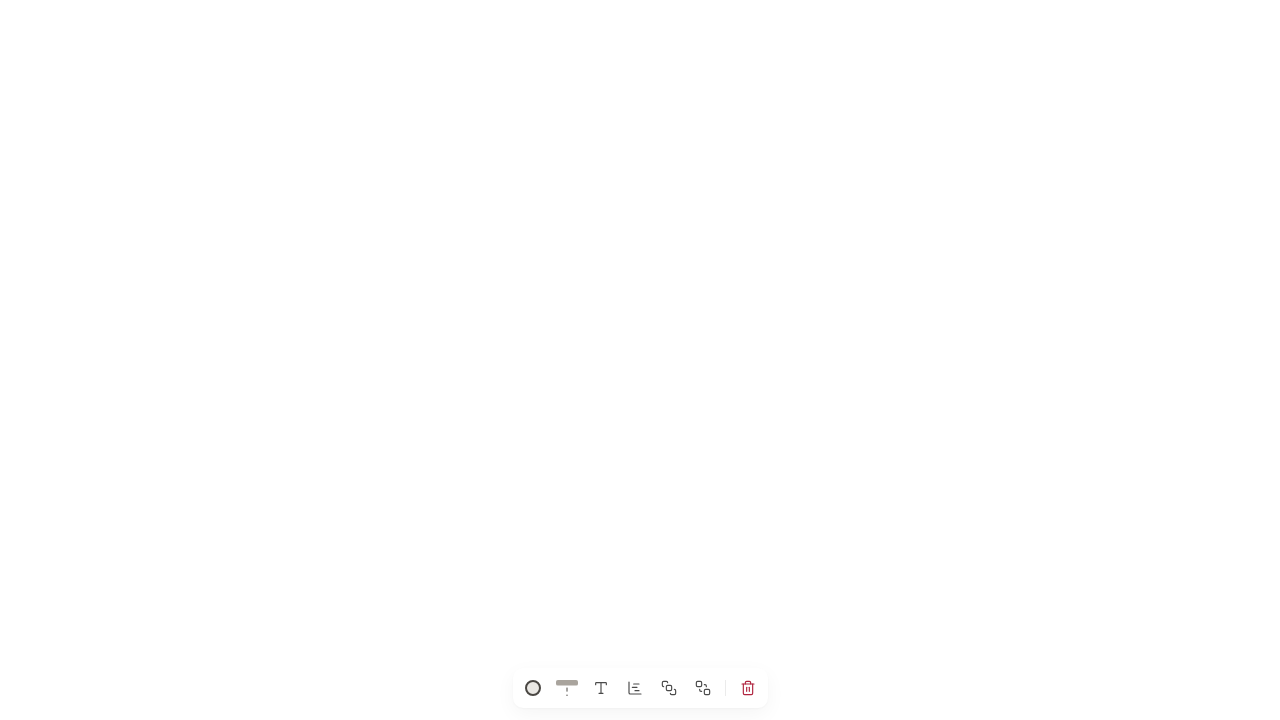
Scenario: edit bar — Destroy marker › turning it on fills in a default y and shows the input
The width and height of the screenshot is (1280, 720).
Click the 4th button named "Activations". click: click(634, 688)
box: x1=618 y1=672 x2=650 y2=704
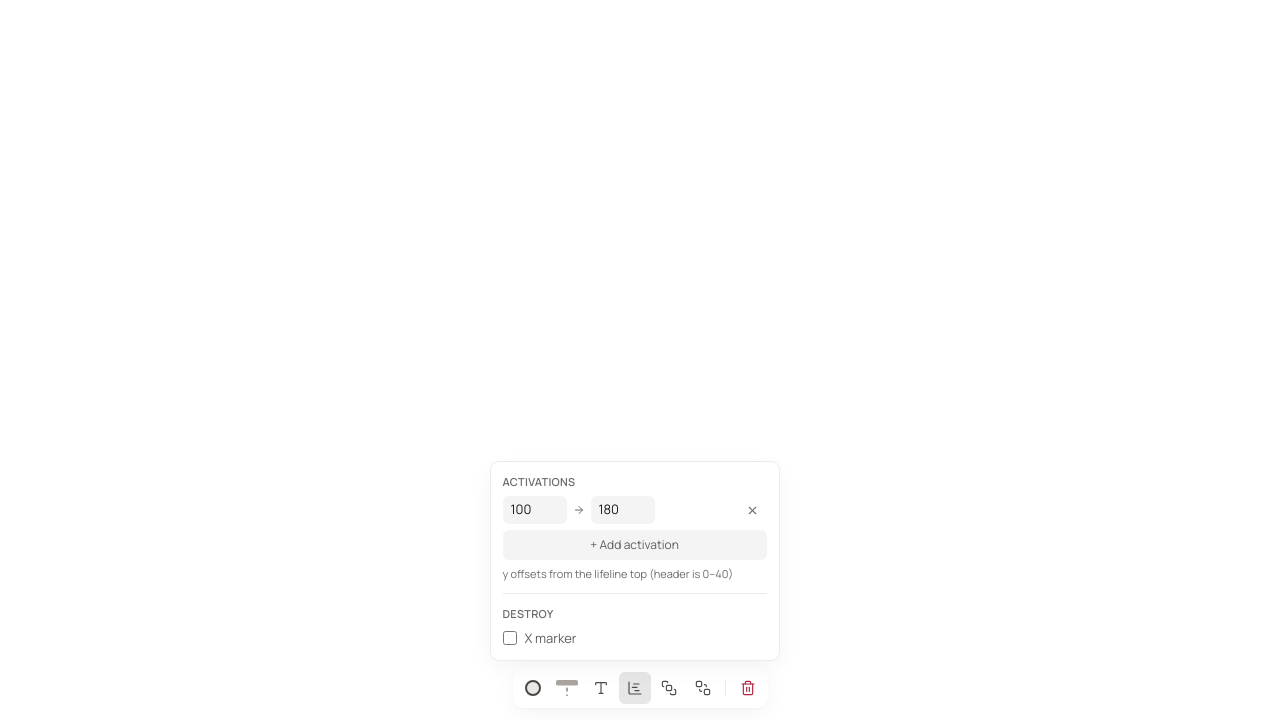
Click the checkbox named "Destroy marker". click: click(510, 638)
box: x1=502 y1=631 x2=516 y2=645
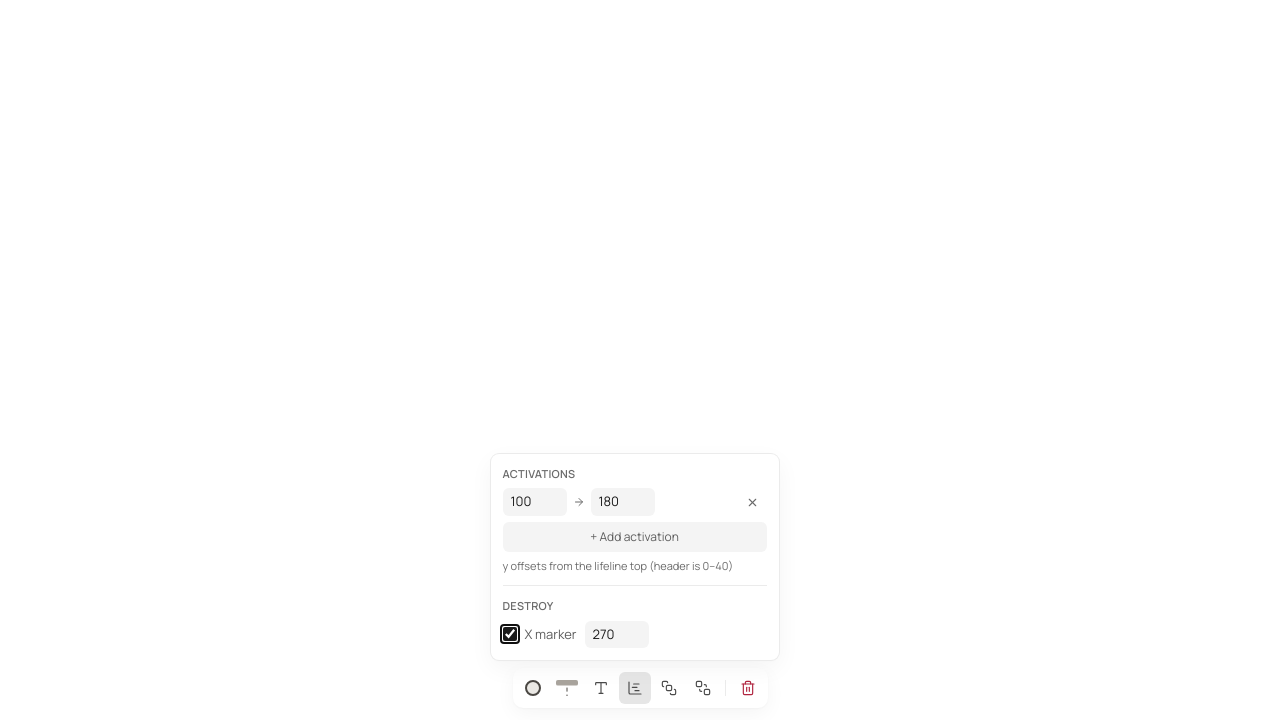
Now the number field named "Destroy y" is shown, box x1=584 y1=620 x2=648 y2=648
